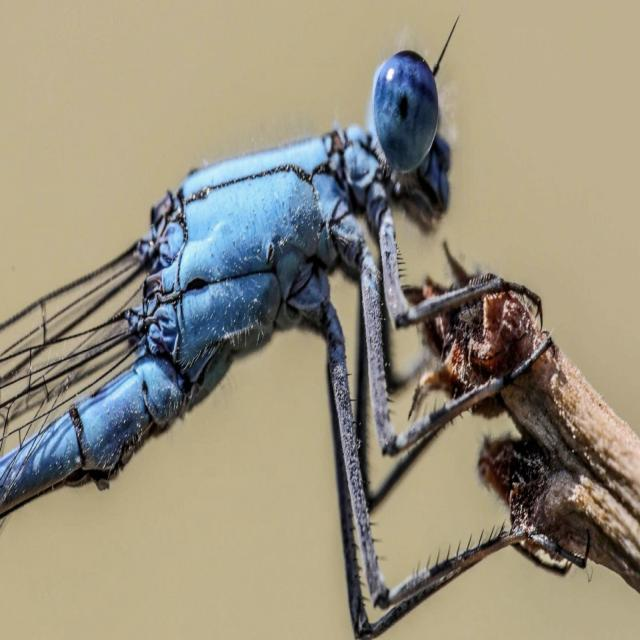dragonfly: (0, 51, 587, 639)
